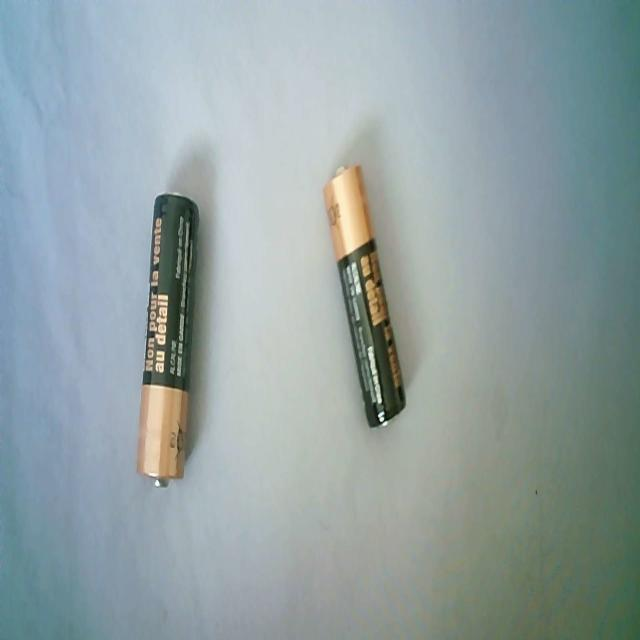AA: (322, 163, 406, 428), (136, 191, 200, 487)
